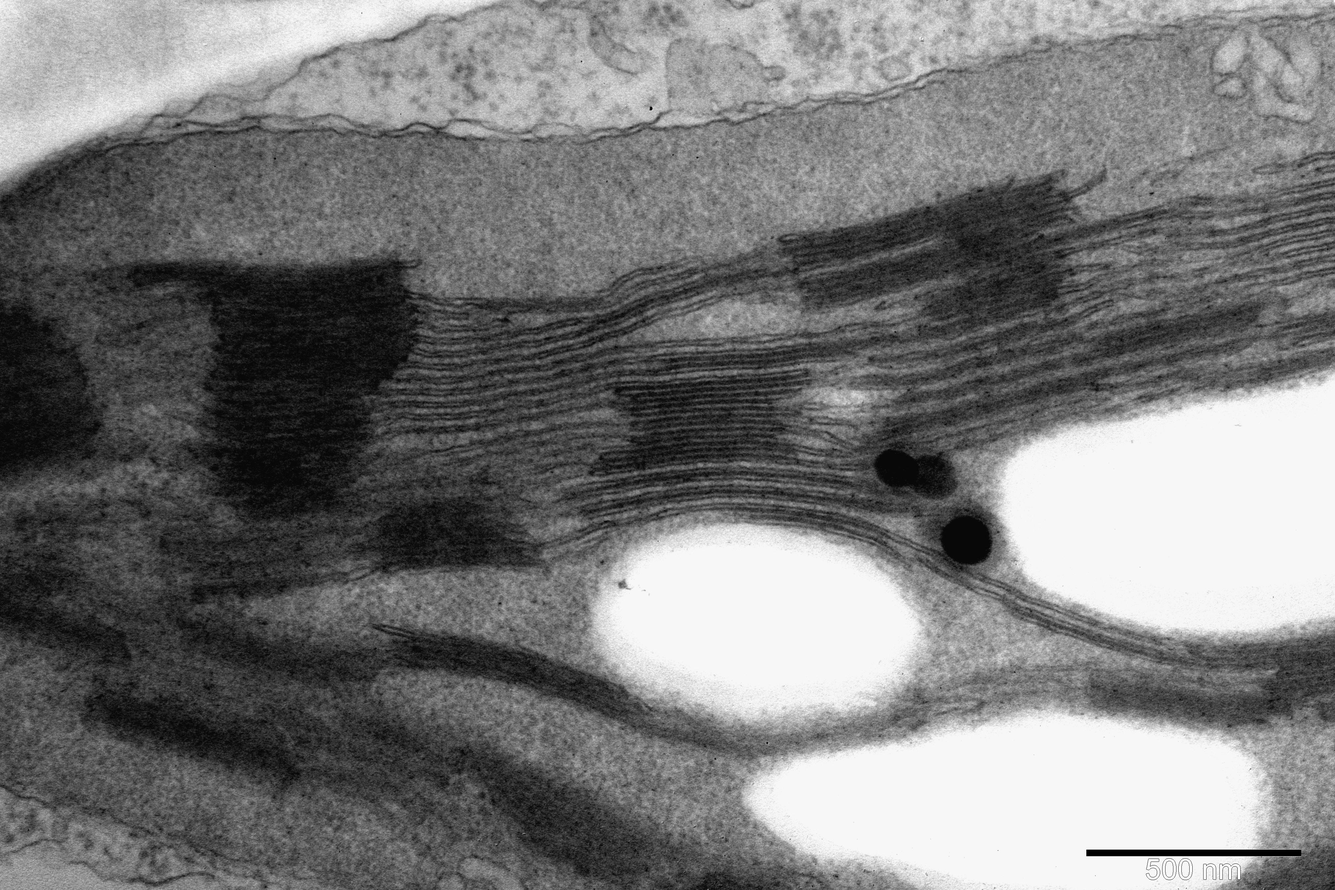granum: (199, 255, 418, 517), (795, 174, 1076, 332), (460, 743, 684, 884), (378, 624, 648, 738), (1088, 630, 1335, 731), (85, 685, 300, 793), (596, 368, 812, 469), (2, 296, 103, 476), (873, 368, 1096, 442), (178, 610, 387, 687), (0, 553, 131, 665), (367, 496, 539, 572), (1094, 296, 1266, 357), (662, 336, 857, 376), (1193, 344, 1335, 396), (1269, 307, 1333, 348)
